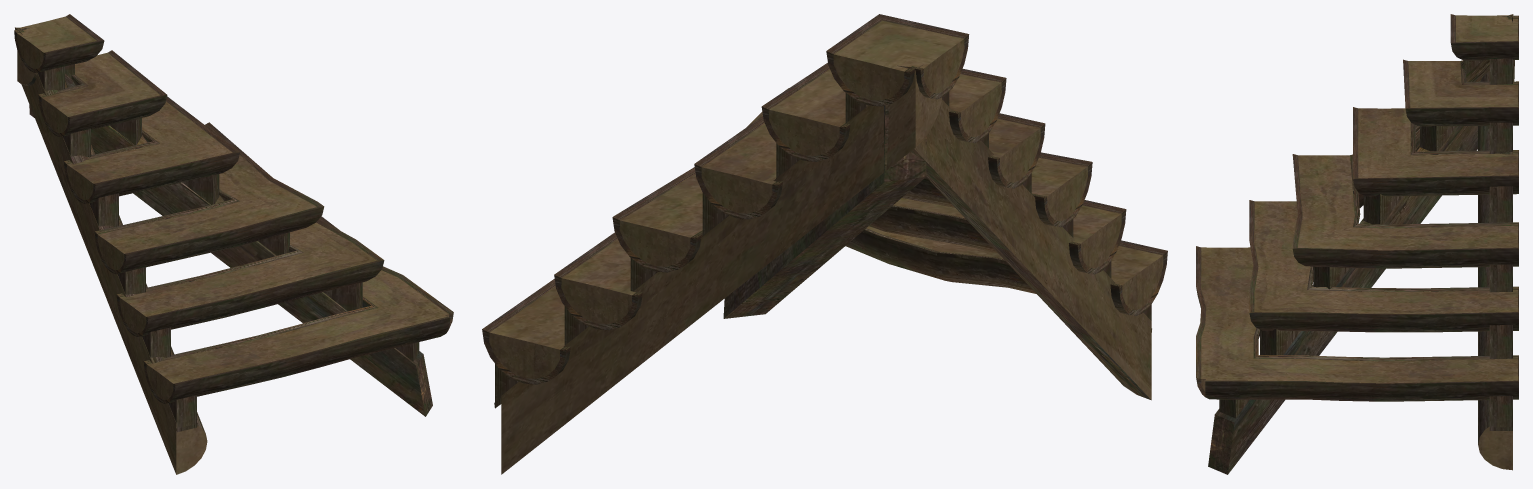
3 views of the same model, side by side, from view 1: azimuth 30°, elevation 25°; view 2: azimuth 150°, elevation 25°; view 3: azimuth 270°, elevation 25° (orthographic). The views are drawn at different scales.
Visible parts, largest first — view 1: SM_T1_Stairs_InnerCorner_LOD0; view 2: SM_T1_Stairs_InnerCorner_LOD0; view 3: SM_T1_Stairs_InnerCorner_LOD0.
Part boxes in pixels (<box>): SM_T1_Stairs_InnerCorner_LOD0: <box>14,14,453,474</box>; SM_T1_Stairs_InnerCorner_LOD0: <box>482,14,1167,474</box>; SM_T1_Stairs_InnerCorner_LOD0: <box>1196,14,1518,474</box>.
Bounding box in the file's own units: 1.55 × 1.76 × 1.56.
